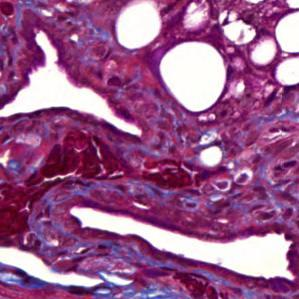steatosis: (159, 41, 231, 114), (115, 1, 160, 51)
